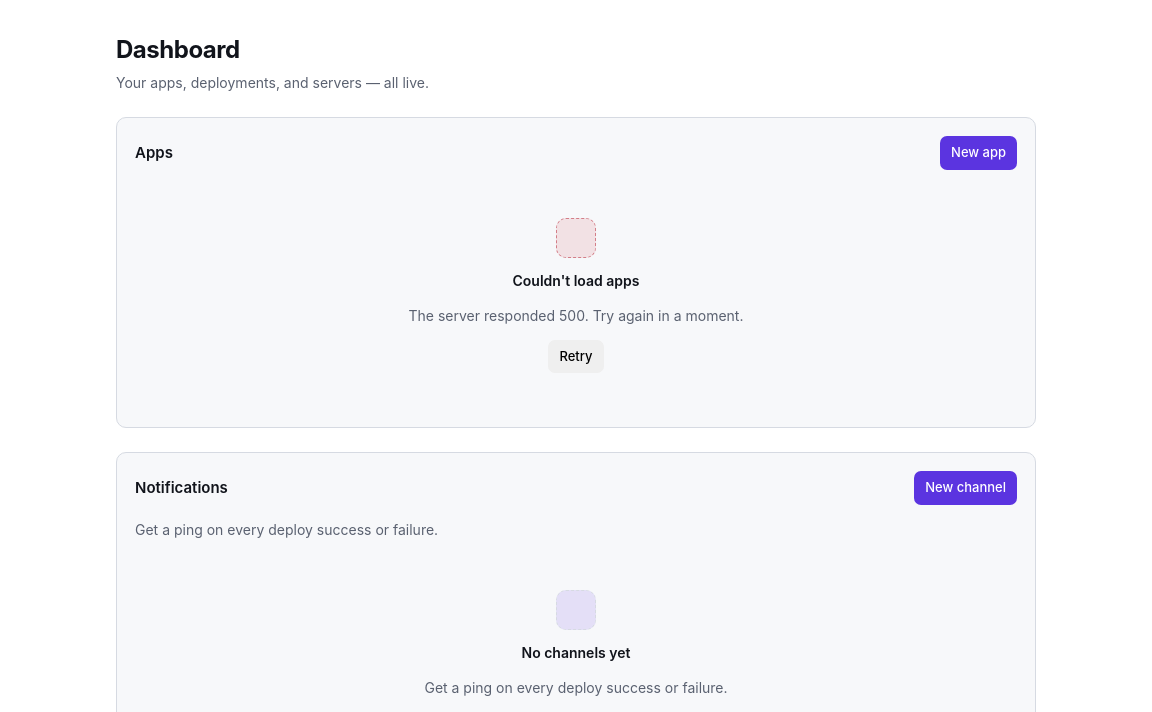
Scenario: Dashboard (component) › shows an error state with Retry on failure — not a permanent skeleton — and recovers
This screenshot has width=1152, height=712.
Expected: the message "Couldn't load apps The server responded 500. Try again in a moment. Retry" is shown, top-left (408, 218), bottom-right (743, 373)
Expected: the text "Couldn't load apps" is shown, top-left (512, 272), bottom-right (640, 288)
Click the button "Retry" at (576, 356), box top-left (548, 340), bottom-right (604, 373)
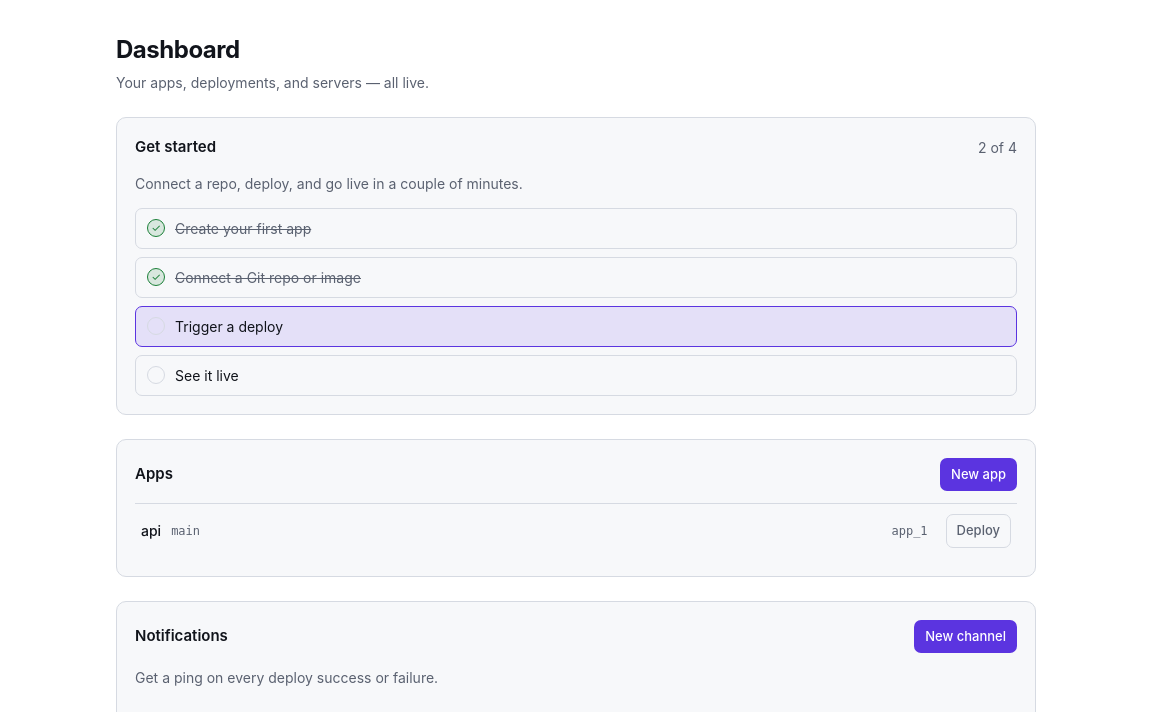
Expected: the link "api" is shown, top-left (141, 520), bottom-right (161, 541)
